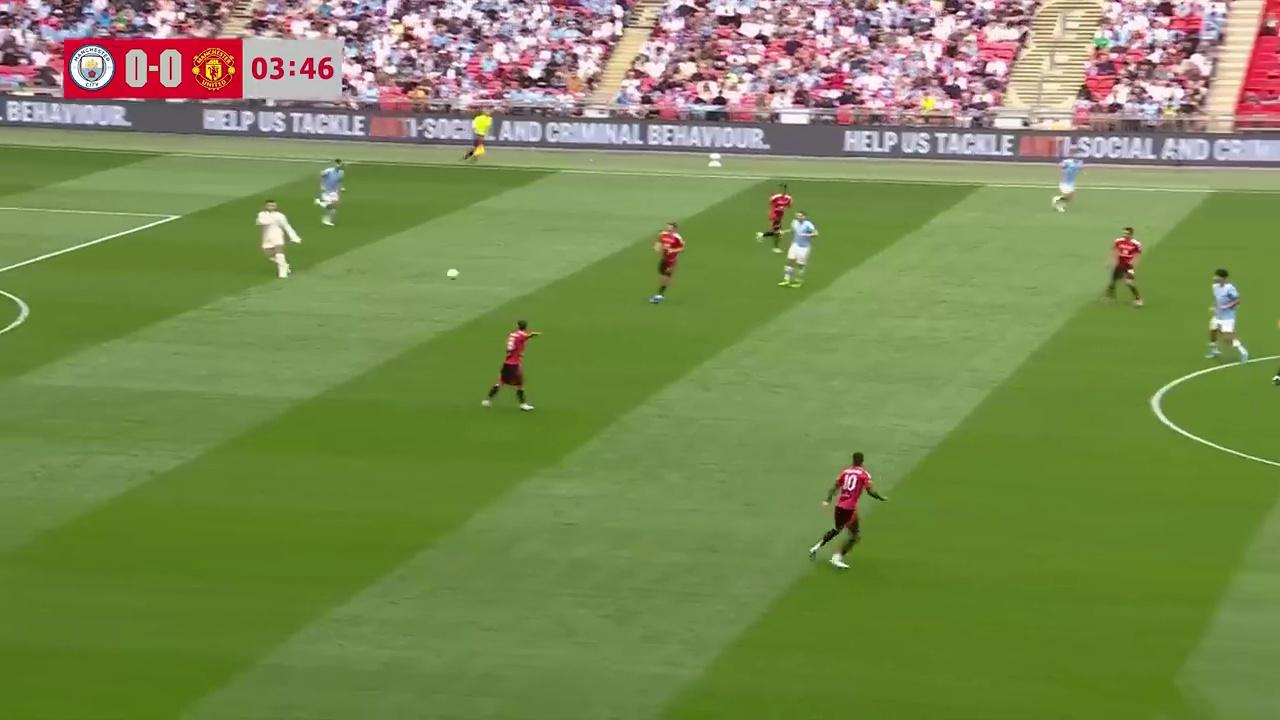ball: (444, 264, 460, 281)
player: (808, 451, 887, 572), (480, 319, 543, 412), (1205, 269, 1250, 365), (256, 199, 299, 279), (1103, 226, 1143, 306), (778, 210, 818, 287), (652, 222, 685, 303), (756, 185, 792, 251), (316, 159, 346, 226), (1051, 153, 1080, 212), (1270, 349, 1280, 396)
referee: (465, 111, 491, 161)
